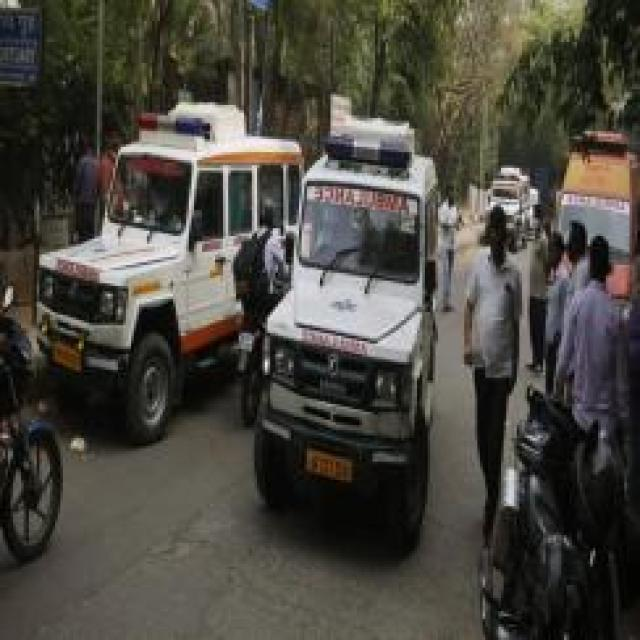Ambulance: (0, 91, 637, 637), (32, 97, 304, 446)
